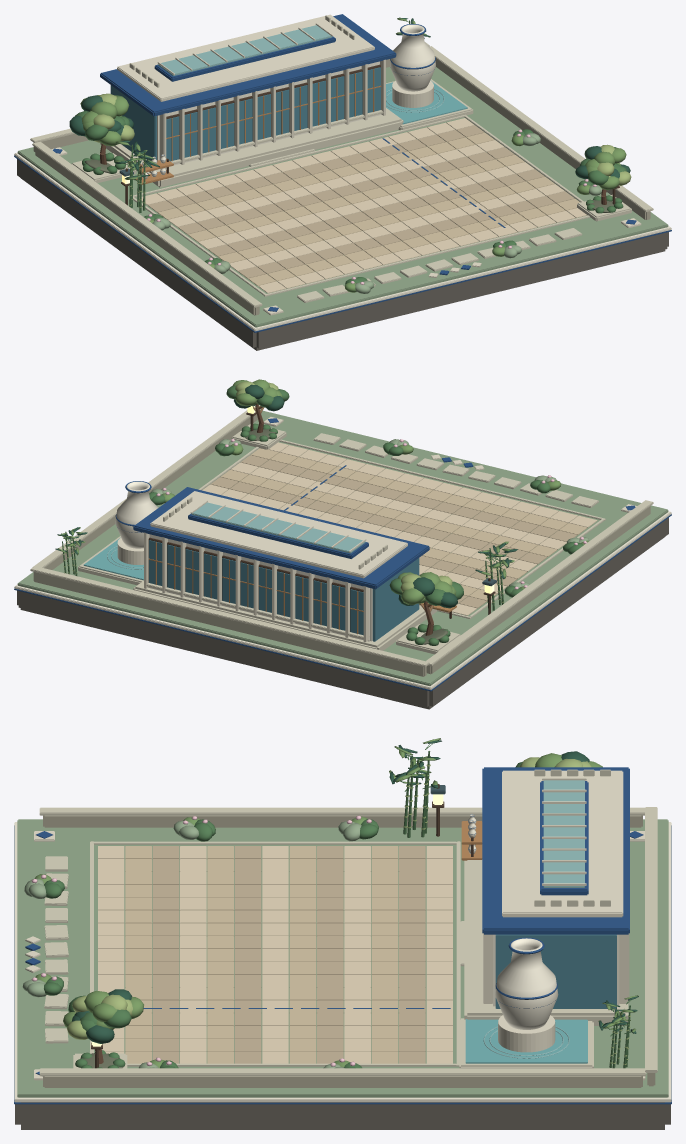
The model's file is museum.glb.
3 views of the same model, one above another, from view 1: azimuth 30°, elevation 25°; view 2: azimuth 150°, elevation 25°; view 3: azimuth 270°, elevation 25° (orthographic). The views are drawn at different scales.
Visible parts, largest first — view 1: Garden ground, Individual courtyard flagstone, Courtyard border, Individual courtyard flagstone.001, Individual courtyard flagstone.002, 20 × 20 square island, Corner porcelain medallion, Blue reflected glazing, Cobalt perimeter inlay, Porcelain perimeter band, Low stone garden wall, Mounded planting.001 (+7 smaller); view 2: Garden ground, Courtyard border, 20 × 20 square island, Corner porcelain medallion, Individual courtyard flagstone, Blue reflected glazing, Individual courtyard flagstone.002, Individual courtyard flagstone.001, Low stone garden wall, Cobalt perimeter inlay, Porcelain perimeter band, Mounded planting.001 (+7 smaller); view 3: Garden ground, Individual courtyard flagstone, Courtyard border, Individual courtyard flagstone.001, Individual courtyard flagstone.002, 20 × 20 square island, Corner porcelain medallion, Low stone garden wall, Cobalt perimeter inlay, Porcelain perimeter band, Blue reflected glazing, Reflecting glass skylight (+6 smaller).
Boxes of the visible parts, box(x1,y1,x2,y2) form: Garden ground: box(17, 67, 668, 327); Individual courtyard flagstone: box(139, 118, 587, 293); Courtyard border: box(30, 15, 653, 307); Individual courtyard flagstone.001: box(148, 125, 574, 278); Individual courtyard flagstone.002: box(158, 132, 580, 285); 20 × 20 square island: box(17, 159, 668, 350); Corner porcelain medallion: box(51, 14, 641, 315); Blue reflected glazing: box(110, 67, 380, 161); Cobalt perimeter inlay: box(14, 14, 671, 332); Porcelain perimeter band: box(14, 24, 671, 331); Low stone garden wall: box(33, 59, 650, 315); Mounded planting.001: box(75, 19, 626, 284); Garden ground: box(17, 410, 668, 685); Courtyard border: box(30, 406, 653, 667); 20 × 20 square island: box(17, 518, 668, 709); Corner porcelain medallion: box(117, 417, 636, 642); Individual courtyard flagstone: box(202, 442, 597, 615); Blue reflected glazing: box(149, 540, 419, 641); Individual courtyard flagstone.002: box(221, 448, 587, 600); Individual courtyard flagstone.001: box(210, 455, 577, 608); Low stone garden wall: box(33, 414, 650, 676); Cobalt perimeter inlay: box(14, 418, 671, 691); Porcelain perimeter band: box(14, 481, 671, 689); Mounded planting.001: box(62, 385, 583, 645); Garden ground: box(17, 819, 668, 1097); Individual courtyard flagstone: box(98, 846, 452, 1063); Courtyard border: box(39, 769, 657, 1076); Individual courtyard flagstone.001: box(152, 846, 425, 1063); Individual courtyard flagstone.002: box(125, 846, 398, 1063); 20 × 20 square island: box(15, 1102, 670, 1129); Corner porcelain medallion: box(25, 770, 645, 1080); Low stone garden wall: box(43, 815, 655, 1087); Cobalt perimeter inlay: box(14, 767, 671, 1104); Porcelain perimeter band: box(14, 814, 671, 1102); Blue reflected glazing: box(495, 934, 616, 1008); Reflecting glass skylight: box(483, 780, 584, 1058).
Bounding box in the file's own units: 20.06 × 5.13 × 20.06.
